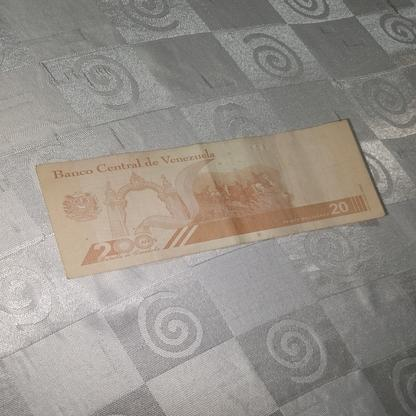twenty-back-vef: (35, 118, 387, 279)
